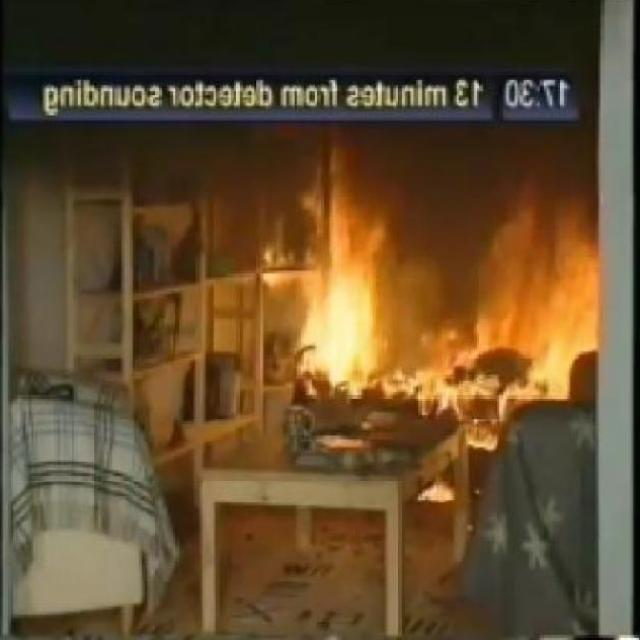smoke: (444, 176, 622, 416), (270, 139, 418, 391), (290, 333, 516, 418)
